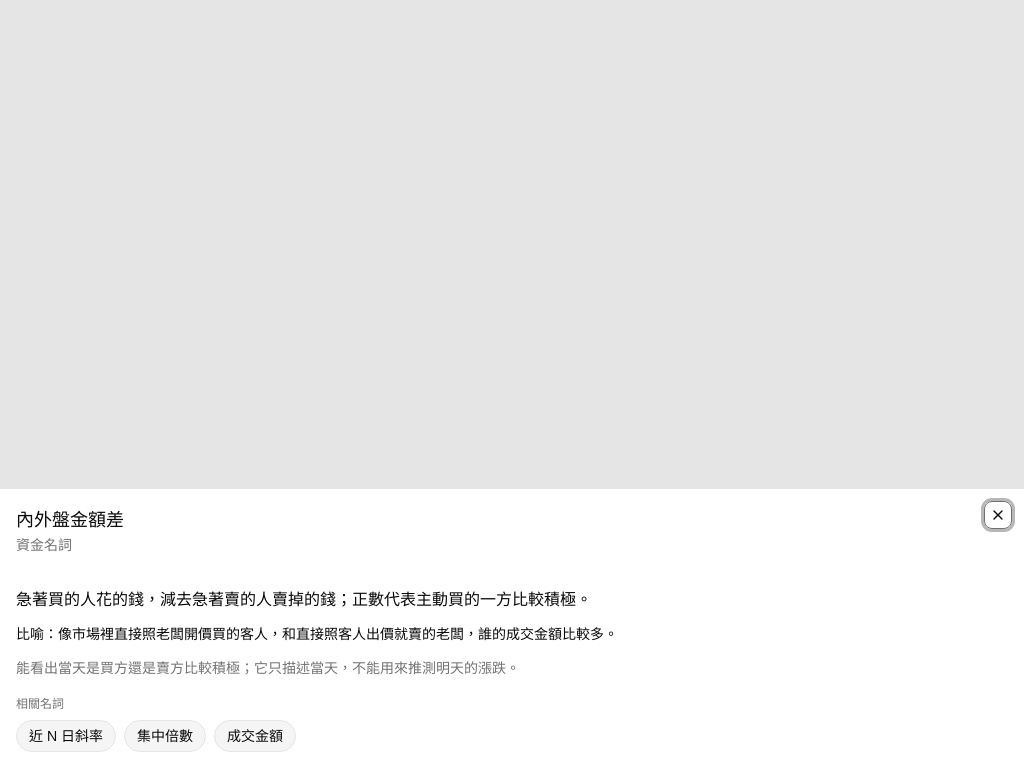
Test: TermPanel › switches to a related term when its chip is clicked
Click the button "近 N 日斜率": (66, 736) [16,720,116,752]
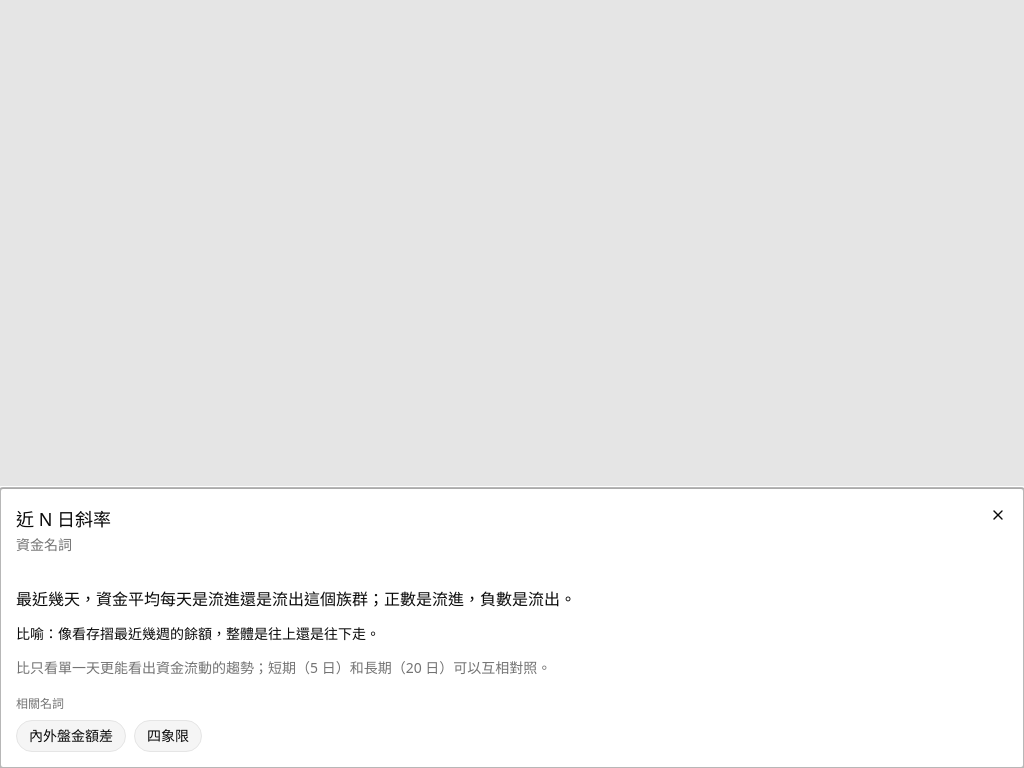
Check: the text "比只看單一天更能看出資金流動的趨勢；短期（5 日）和長期（20 日）可以互相對照。" is shown, box [16,658,551,677]
Check: the text "能看出當天是買方還是賣方比較積極；它只描述當天，不能用來推測明天的漲跌。" is gone
